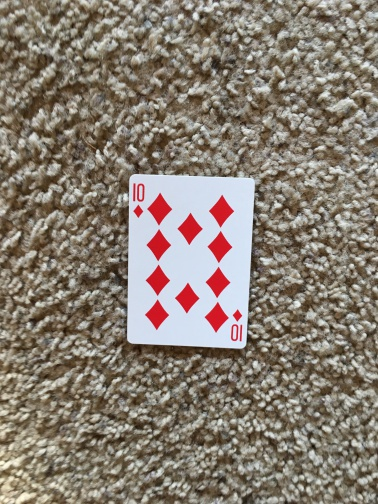nine: (126, 172, 254, 350)
